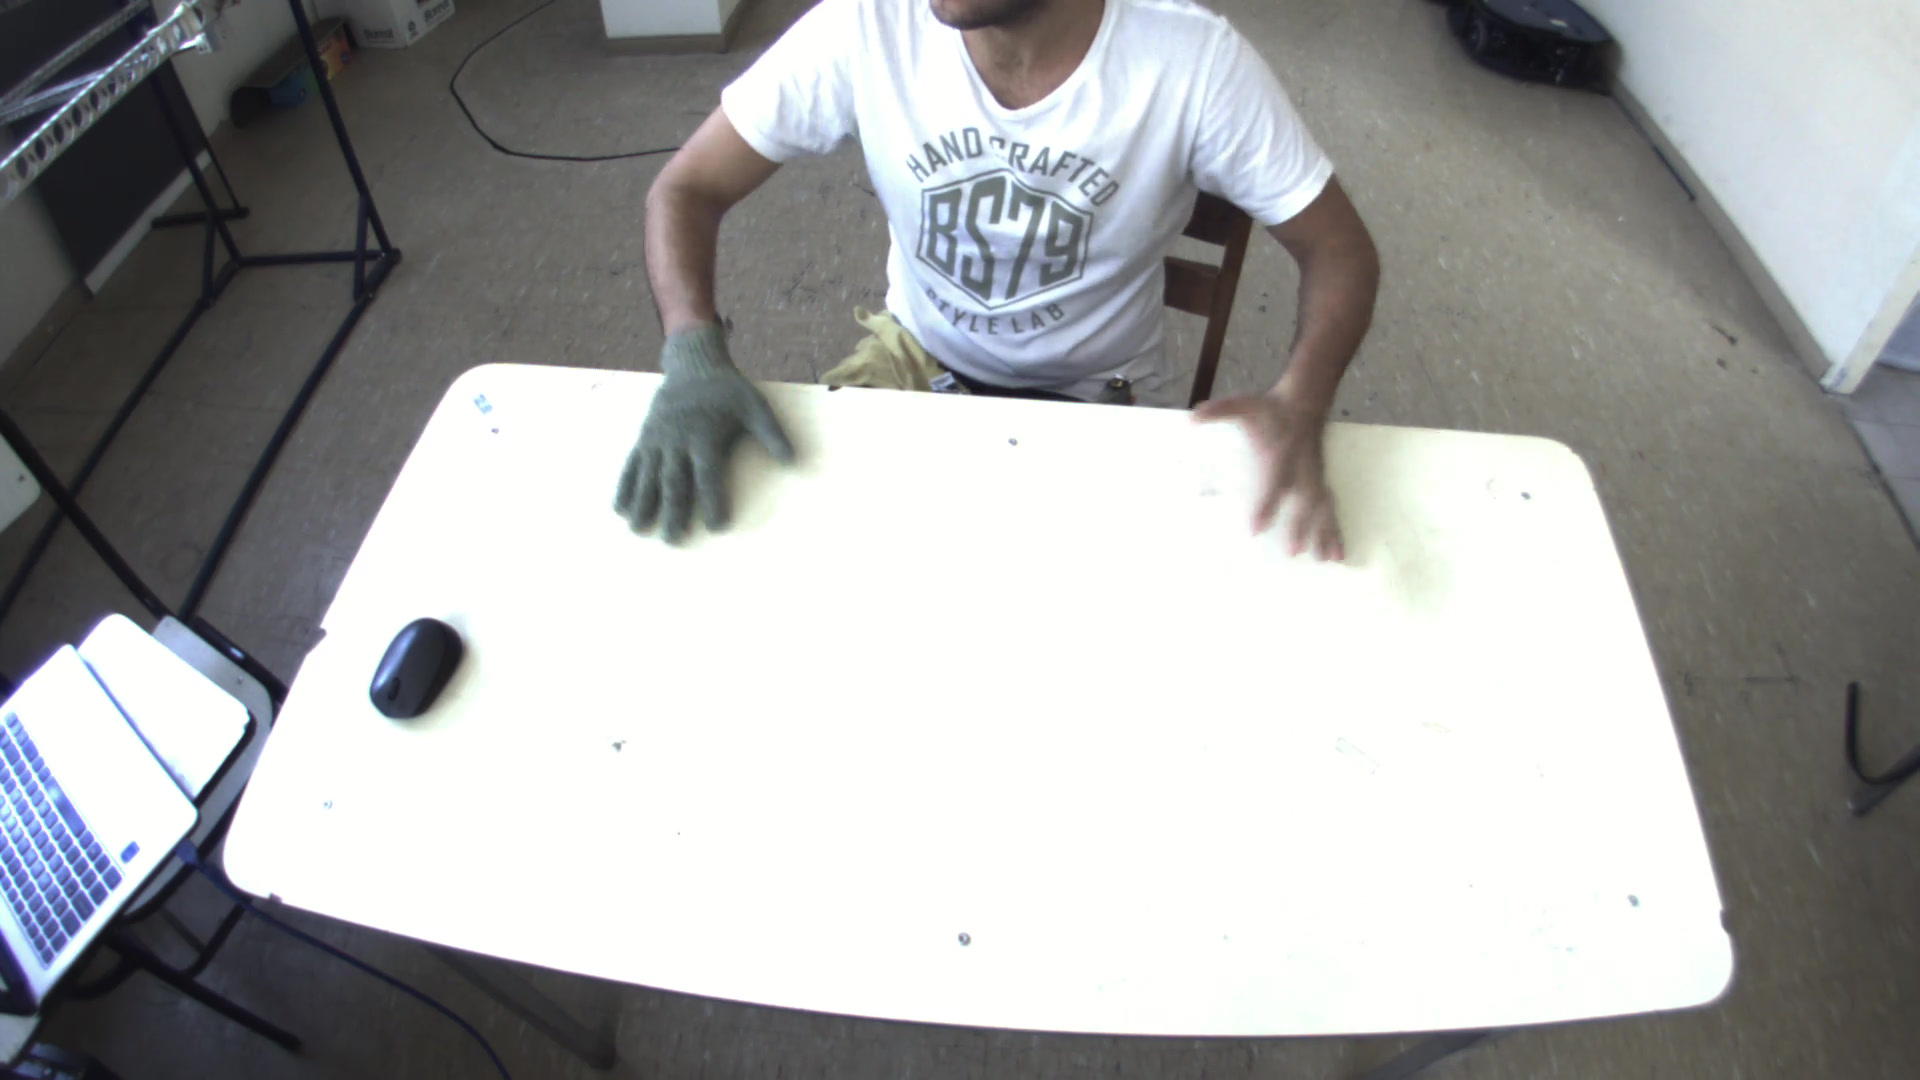hand: (603, 303, 818, 545), (1192, 368, 1366, 564)
